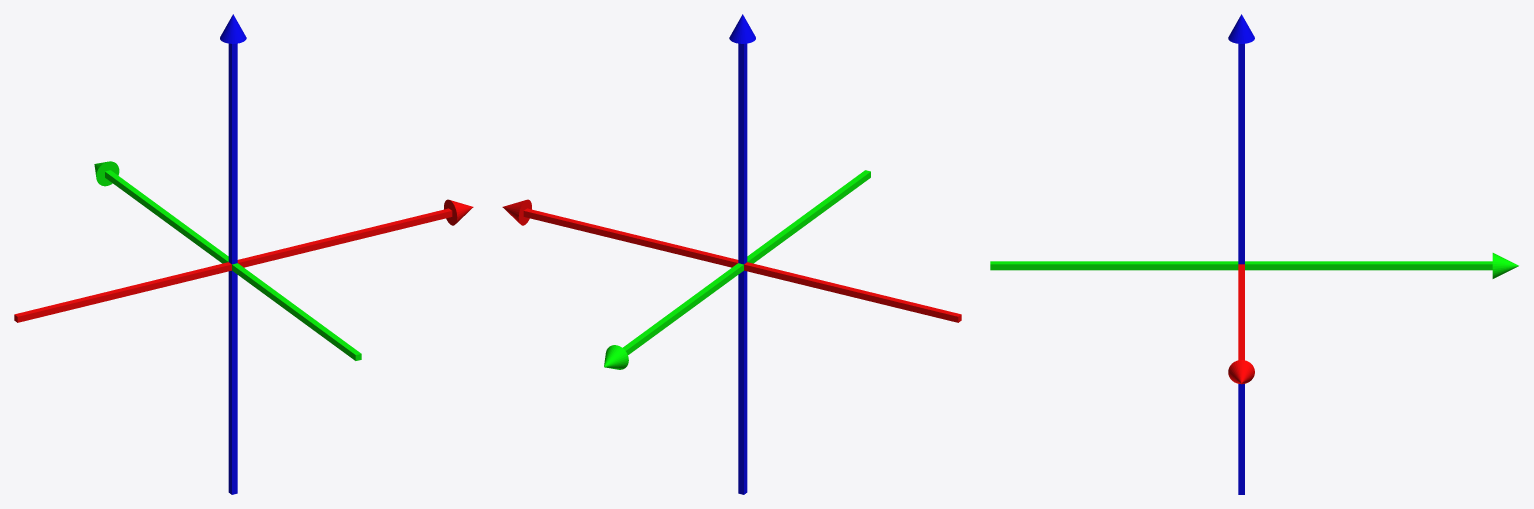
The model's file is basis_axis.obj.
3 renders of one model, left to right at view 1: azimuth 30°, elevation 25°; view 2: azimuth 150°, elevation 25°; view 3: azimuth 270°, elevation 25°, orthographic.
Visible parts, largest first — view 1: Cube.001, Cube, Cube.002; view 2: Cube.001, Cube, Cube.002, Cone.002; view 3: Cube.002, Cube.001, Cube.
Part boxes in pixels (x1,y1,x2,y2): Cube.001: (228,43,237,494); Cube: (14,208,452,322); Cube.002: (105,170,361,360); Cube.001: (738,43,747,494); Cube: (523,208,961,322); Cube.002: (622,170,870,354); Cone.002: (604,345,628,369); Cube.002: (990,261,1492,270); Cube.001: (1238,43,1244,494); Cube: (1238,264,1244,360).
Bounding box in the file's own units: 3.16 × 3.16 × 3.16.
